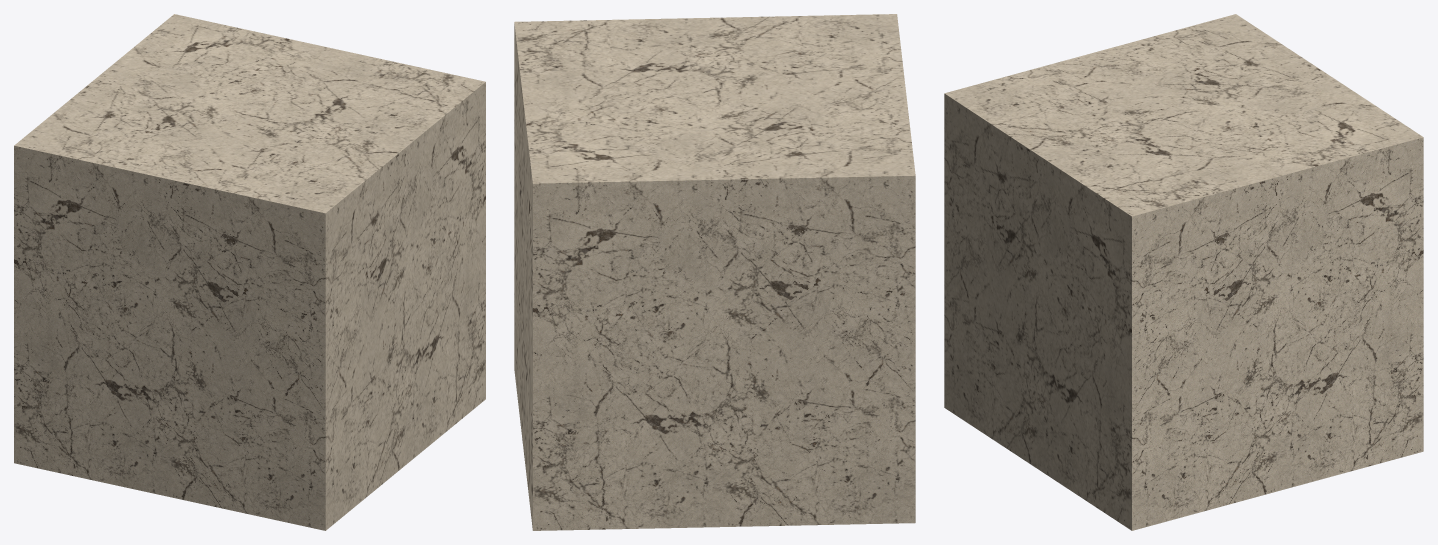
The model's file is AnimatedCube.glb.
3 renders of one model, left to right at view 1: azimuth 30°, elevation 25°; view 2: azimuth 150°, elevation 25°; view 3: azimuth 270°, elevation 25°, orthographic. The views are drawn at different scales.
Parts seen in each view (by area): view 1: AnimatedCube; view 2: AnimatedCube; view 3: AnimatedCube.
Part boxes in pixels (x1,y1,x2,y2): AnimatedCube: (14,14,485,530); AnimatedCube: (514,14,915,530); AnimatedCube: (944,14,1423,530).
Size of the model in its own units: 2.76 by 2 by 2.76.
1 material, 1 textured.
